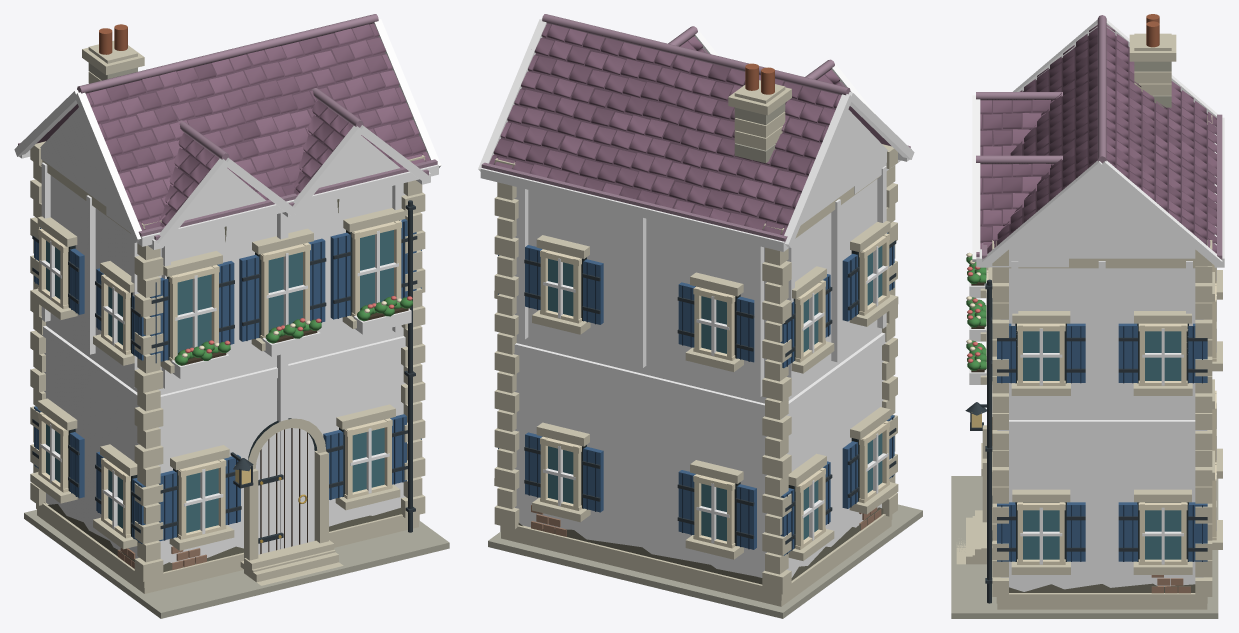
The model's file is townhouse_mauve.glb.
The picture shows the model from 3 angles, left to right: view 1: azimuth 30°, elevation 25°; view 2: azimuth 150°, elevation 25°; view 3: azimuth 270°, elevation 25°; orthographic projection. The views are drawn at different scales.
Parts seen in each view (by area): view 1: SourceMesh_00005, SourceMesh_00098, SourceMesh_00000, SourceMesh_00089, SourceMesh_00172, SourceMesh_00084, SourceMesh_00092, SourceMesh_00006, SourceMesh_00090, SourceMesh_00163, SourceMesh_00143, SourceMesh_00085 (+59 smaller); view 2: SourceMesh_00005, SourceMesh_00098, SourceMesh_00086, SourceMesh_00000, SourceMesh_00006, SourceMesh_00084, SourceMesh_00092, SourceMesh_00087, SourceMesh_00001, SourceMesh_00088, SourceMesh_00093, SourceMesh_00640 (+41 smaller); view 3: SourceMesh_00005, SourceMesh_00098, SourceMesh_00095, SourceMesh_00000, SourceMesh_00163, SourceMesh_00086, SourceMesh_00143, SourceMesh_00006, SourceMesh_00084, SourceMesh_00089, SourceMesh_00096, SourceMesh_00097 (+45 smaller).
Part boxes in pixels (box(x1,y1,x2,y2)): SourceMesh_00005: box(44, 175, 405, 564); SourceMesh_00098: box(86, 23, 430, 230); SourceMesh_00000: box(24, 509, 449, 618); SourceMesh_00089: box(88, 24, 426, 229); SourceMesh_00172: box(255, 428, 314, 554); SourceMesh_00084: box(37, 326, 406, 410); SourceMesh_00092: box(40, 107, 125, 220); SourceMesh_00006: box(36, 503, 419, 587); SourceMesh_00090: box(137, 164, 438, 246); SourceMesh_00163: box(292, 99, 353, 194); SourceMesh_00143: box(158, 133, 218, 227); SourceMesh_00085: box(277, 213, 288, 549); SourceMesh_00005: box(514, 179, 883, 577); SourceMesh_00098: box(489, 23, 841, 235); SourceMesh_00086: box(493, 24, 838, 234); SourceMesh_00000: box(488, 504, 922, 618); SourceMesh_00006: box(500, 514, 892, 600); SourceMesh_00084: box(514, 332, 891, 418); SourceMesh_00092: box(800, 109, 888, 225); SourceMesh_00087: box(480, 168, 788, 251); SourceMesh_00001: box(501, 520, 891, 606); SourceMesh_00088: box(481, 162, 787, 241); SourceMesh_00093: box(784, 94, 852, 247); SourceMesh_00640: box(636, 216, 646, 368); SourceMesh_00005: box(1001, 268, 1203, 591); SourceMesh_00098: box(987, 25, 1216, 253); SourceMesh_00095: box(1009, 170, 1195, 258); SourceMesh_00000: box(951, 476, 1218, 618); SourceMesh_00163: box(980, 163, 1053, 249); SourceMesh_00086: box(1106, 35, 1214, 245); SourceMesh_00143: box(980, 99, 1054, 155); SourceMesh_00006: box(996, 593, 1207, 603); SourceMesh_00084: box(997, 420, 1207, 430); SourceMesh_00089: box(996, 35, 1097, 245); SourceMesh_00096: box(1100, 160, 1222, 267); SourceMesh_00097: box(982, 160, 1104, 267).
Bounding box in the file's own units: 5.89 × 9.28 × 4.71.
